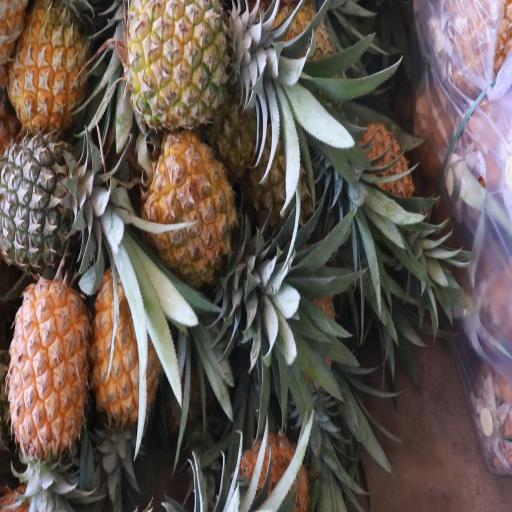Pineapple - v8 v1: (144, 123, 264, 319), (122, 0, 280, 124), (8, 264, 92, 495), (90, 251, 161, 415), (7, 0, 96, 119)
